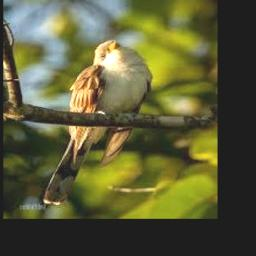Cuckoo: (44, 40, 151, 205)
